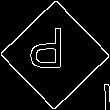P_S: (36, 30, 74, 80)
